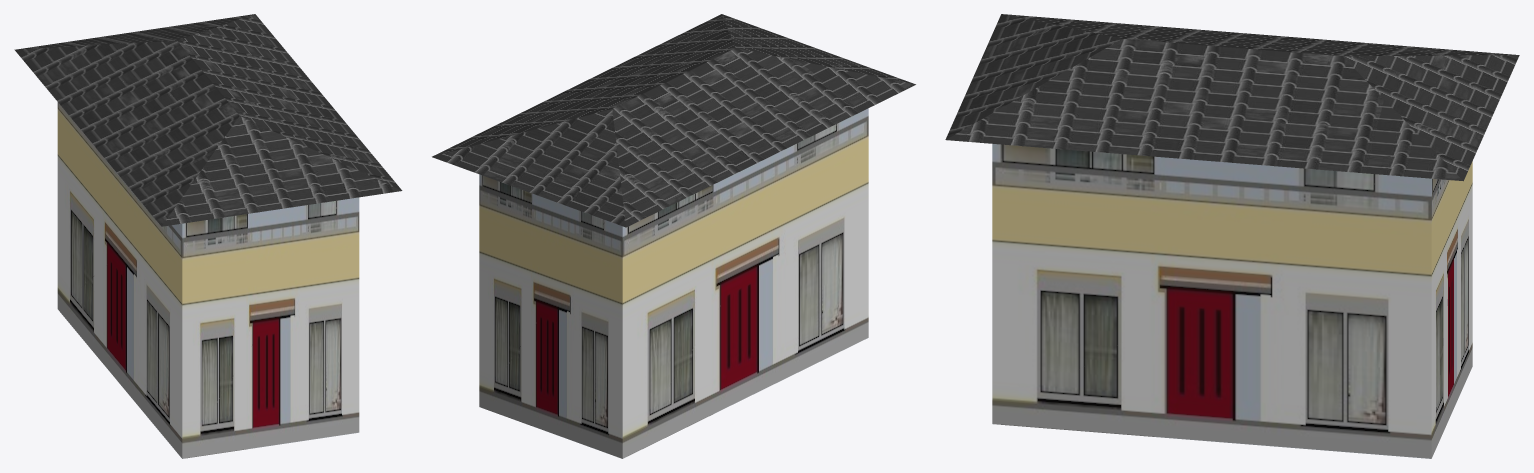
The picture shows the model from 3 angles, left to right: view 1: azimuth 30°, elevation 25°; view 2: azimuth 150°, elevation 25°; view 3: azimuth 270°, elevation 25°; orthographic projection. The views are drawn at different scales.
Visible parts, largest first — view 1: CityEngineMaterial_15_m, CityEngineMaterial_16_m; view 2: CityEngineMaterial_15_m, CityEngineMaterial_16_m; view 3: CityEngineMaterial_15_m, CityEngineMaterial_16_m.
Boxes of the visible parts, left/top/right/bottom form: CityEngineMaterial_15_m: left=57, top=102, right=359, bottom=458; CityEngineMaterial_16_m: left=14, top=14, right=402, bottom=226; CityEngineMaterial_15_m: left=479, top=108, right=868, bottom=458; CityEngineMaterial_16_m: left=432, top=14, right=915, bottom=227; CityEngineMaterial_15_m: left=992, top=144, right=1472, bottom=458; CityEngineMaterial_16_m: left=945, top=14, right=1519, bottom=181.
Size of the model in its own units: 9.25 by 8.97 by 13.42.
